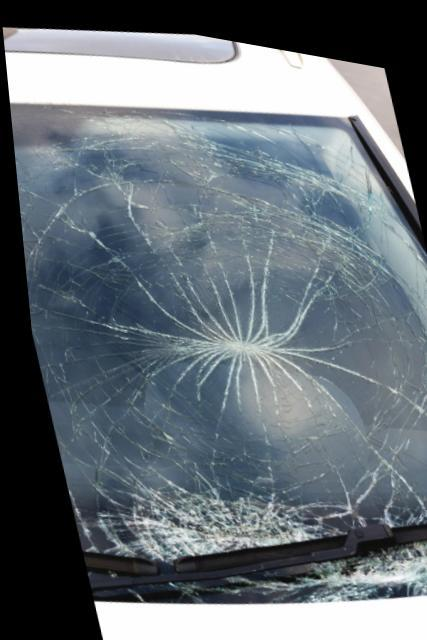glass shatter: (8, 103, 427, 599)
